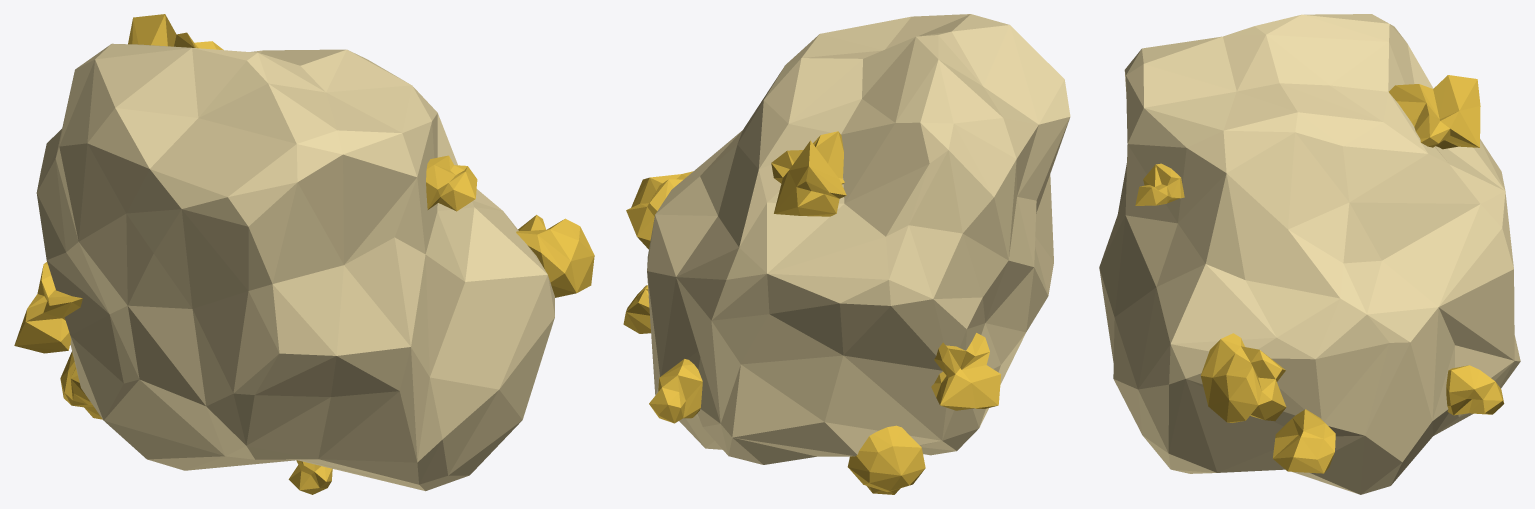
Rendered from MetalOre (42).fbx.
3 views of the same model, side by side, from view 1: azimuth 30°, elevation 25°; view 2: azimuth 150°, elevation 25°; view 3: azimuth 270°, elevation 25° (orthographic). The views are drawn at different scales.
Parts seen in each view (by area): view 1: Asteroid397; view 2: Asteroid397; view 3: Asteroid397.
Part boxes in pixels (bbox=[...]): Asteroid397: bbox=[14, 14, 594, 494]; Asteroid397: bbox=[623, 14, 1070, 494]; Asteroid397: bbox=[1099, 14, 1520, 494].
Size of the model in its own units: 260 by 234 by 224.
